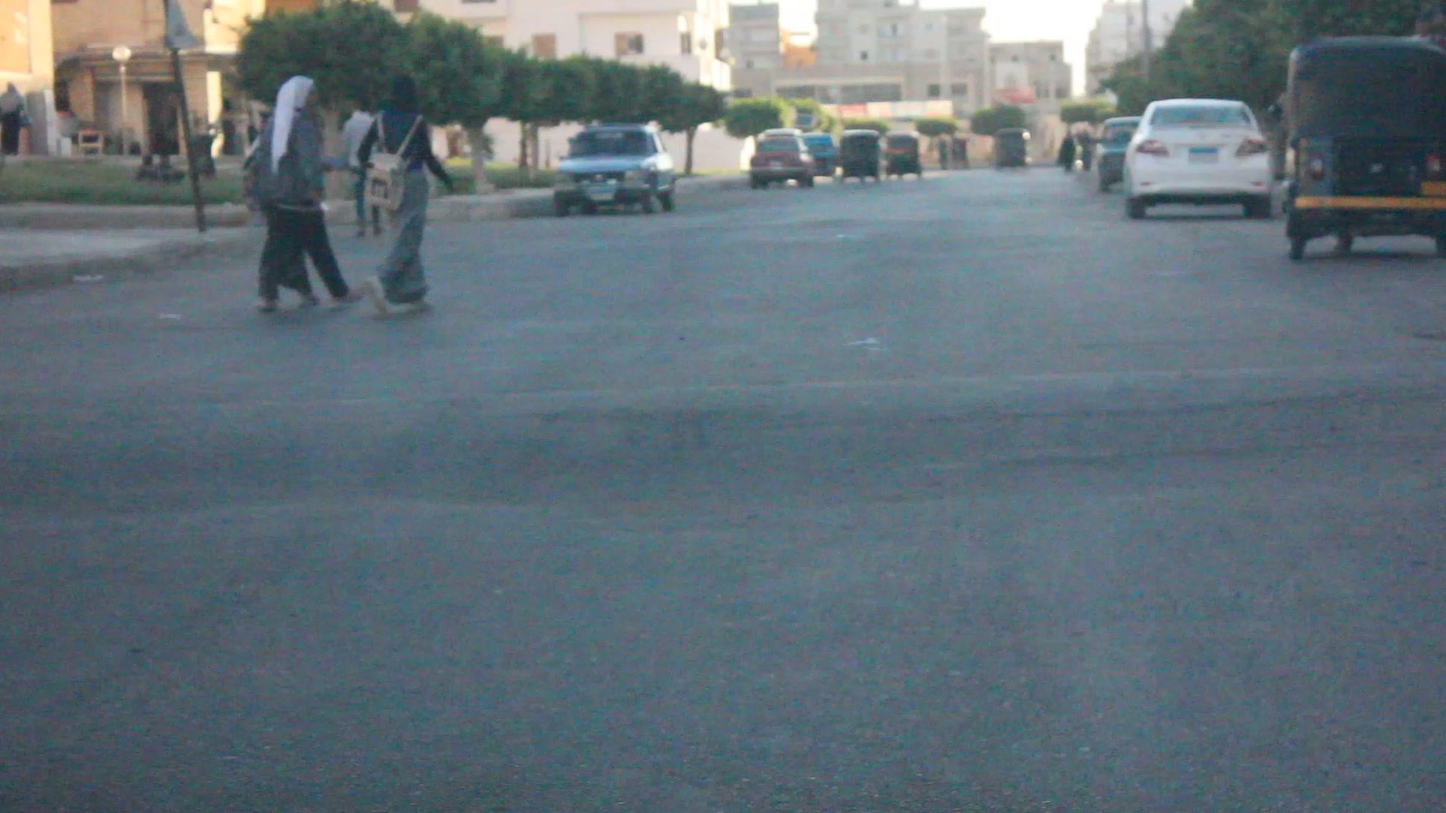Bump: (2, 393, 1446, 487)
